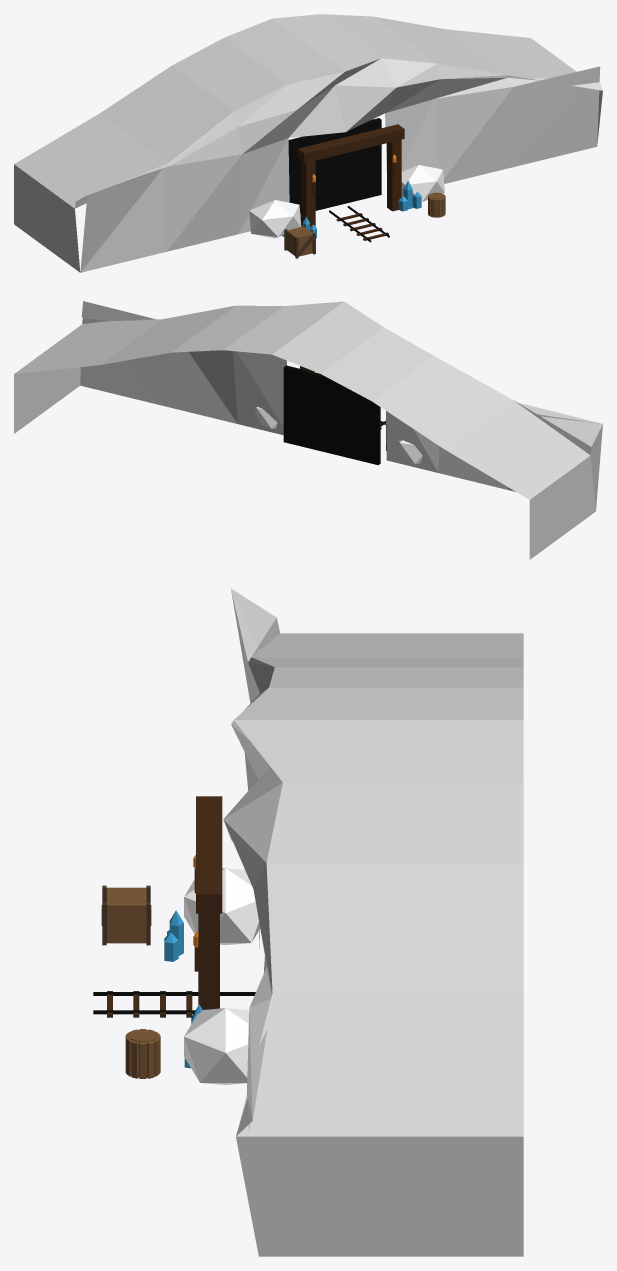
File: mine.glb
3 renders of one model, top to bottom at view 1: azimuth 30°, elevation 25°; view 2: azimuth 150°, elevation 25°; view 3: azimuth 270°, elevation 25°, orthographic. The views are drawn at different scales.
Visible parts, largest first — view 1: MineCliffMountain, MineDark, MineLintel, MineRock, MineRock.001, MinePost.001, MinePost, MineSupplyCrate, MineCrystal.001, MineSupplyBarrel; view 2: MineCliffMountain, MineDark, MineRock; view 3: MineCliffMountain, MineRock.001, MineLintel, MineRock, MineSupplyCrate, MinePost.001, MineSupplyBarrel.
Boxes of the visible parts, x1=… form: MineCliffMountain: x1=14, y1=14, x2=602, y2=272; MineDark: x1=288, y1=118, x2=381, y2=214; MineLintel: x1=297, y1=124, x2=404, y2=163; MineRock: x1=249, y1=200, x2=301, y2=238; MineRock.001: x1=401, y1=165, x2=444, y2=202; MinePost.001: x1=387, y1=139, x2=401, y2=211; MinePost: x1=300, y1=160, x2=315, y2=227; MineSupplyCrate: x1=284, y1=225, x2=315, y2=258; MineCrystal.001: x1=398, y1=180, x2=421, y2=211; MineSupplyBarrel: x1=428, y1=192, x2=445, y2=217; MineCliffMountain: x1=14, y1=301, x2=602, y2=559; MineDark: x1=283, y1=365, x2=380, y2=465; MineRock: x1=396, y1=440, x2=422, y2=463; MineCliffMountain: x1=223, y1=588, x2=523, y2=1256; MineRock.001: x1=184, y1=1008, x2=249, y2=1084; MineLintel: x1=196, y1=796, x2=222, y2=913; MineRock: x1=184, y1=868, x2=260, y2=944; MineSupplyCrate: x1=101, y1=885, x2=151, y2=945; MinePost.001: x1=198, y1=913, x2=219, y2=1009; MineSupplyBarrel: x1=125, y1=1029, x2=160, y2=1078.
Bounding box in the file's own units: 36 × 9.84 × 13.
